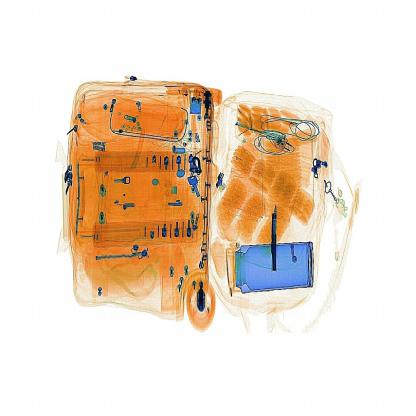pliers: (270, 202, 279, 279)
